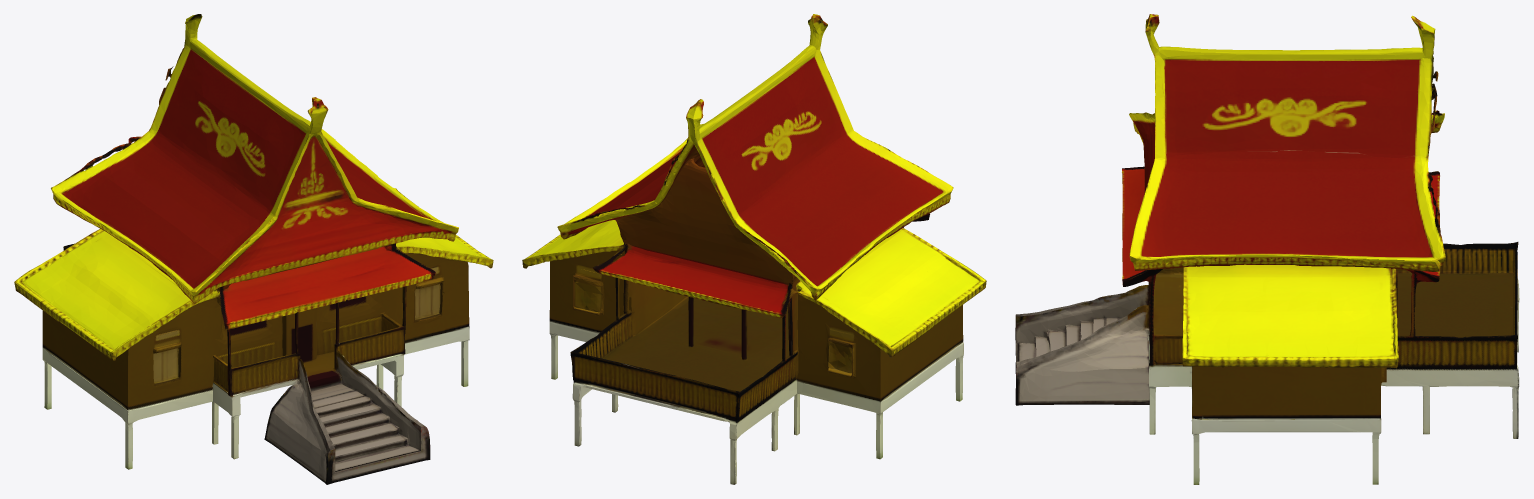
The model's file is bengkulu.glb.
The picture shows the model from 3 angles, left to right: view 1: azimuth 30°, elevation 25°; view 2: azimuth 150°, elevation 25°; view 3: azimuth 270°, elevation 25°; orthographic projection. The views are drawn at different scales.
Parts seen in each view (by area): view 1: world; view 2: world; view 3: world.
Part boxes in pixels (x1,y1,x2,y2): world: (14,14,493,484); world: (522,14,986,484); world: (1015,14,1519,484).
Size of the model in its own units: 0.6773 by 0.5812 by 0.7004.
1 material, 1 textured.
